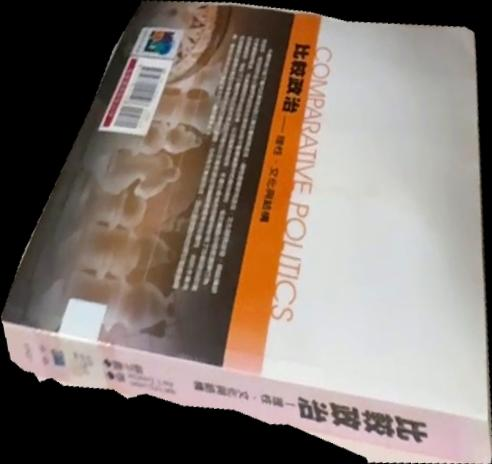flat: (1, 1, 492, 464)
